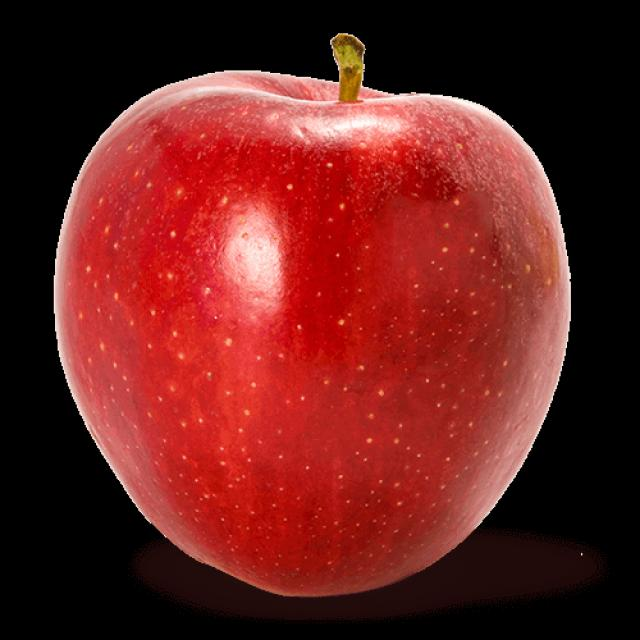apple: (52, 65, 572, 602)
